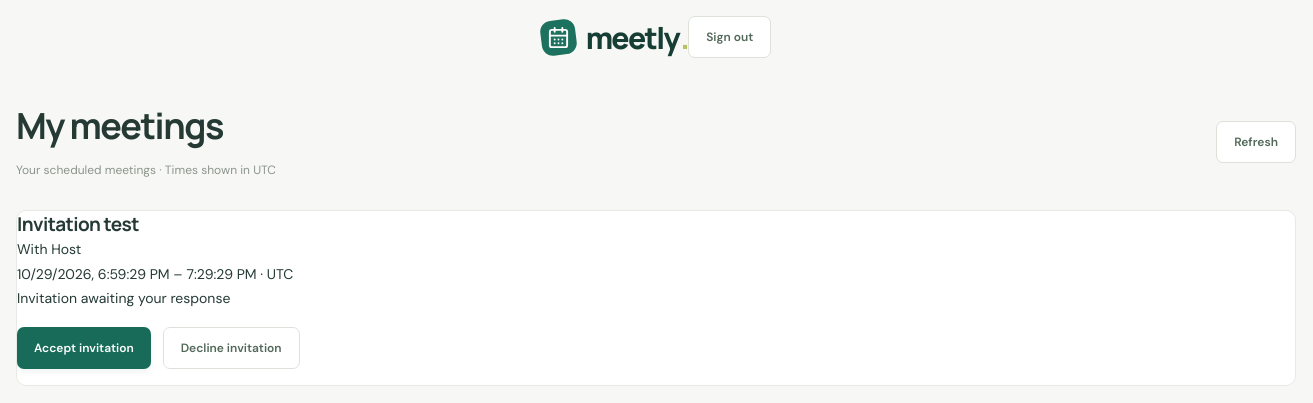
invitee must accept before the dashboard exposes the joining link
The width and height of the screenshot is (1313, 403).
(page scrolled)
Expected: the link "Join meeting" is not shown
Click the button "Accept invitation": {"x": 84, "y": 348} [17,326,151,368]
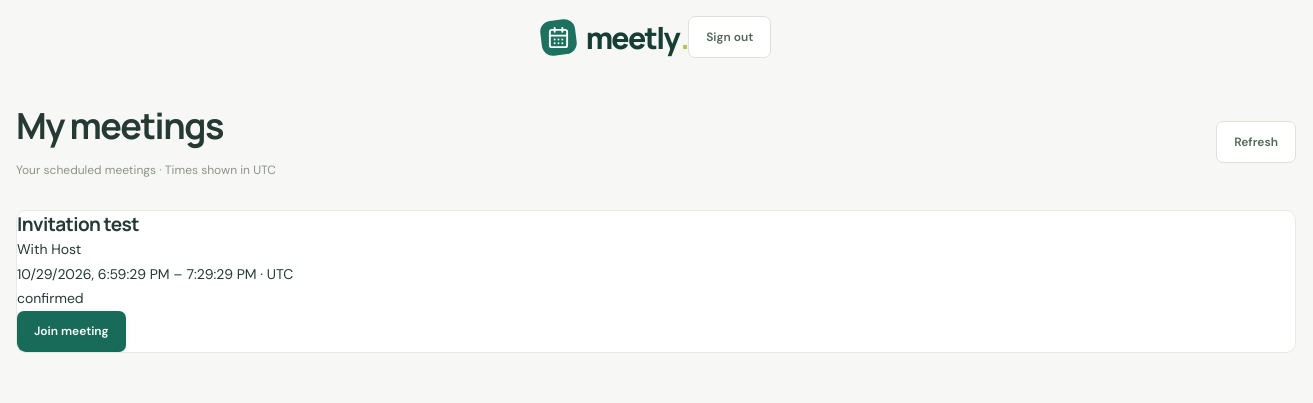
Expected: the link "Join meeting" is shown, [17,310,126,352]
Expected: the button "Accept invitation" is gone
